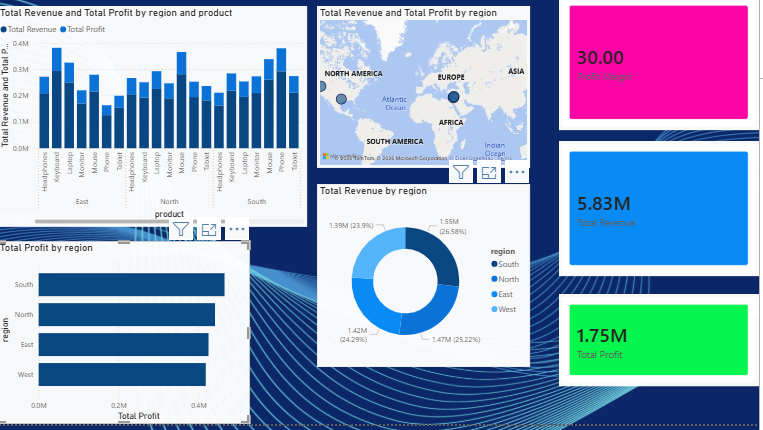

What the dashboard file says about the page in this screenshot:
{"tool":"powerbi","page":{"name":"Page 1","canvas":[1280,720],"ordinal":0},"visuals":[{"type":"columnChart","fields":{"Y":["cleaned_sales_data.Total Revenue","cleaned_sales_data.Total Profit"],"Category":["cleaned_sales_data.region","cleaned_sales_data.product"]},"box":[0,18.5,520.7,371.2],"z":0},{"type":"cardVisual","fields":{"Data":["cleaned_sales_data.Total Revenue"]},"box":[944,245.2,336,226.8],"z":1000},{"type":"cardVisual","fields":{"Data":["cleaned_sales_data.Total Profit"]},"box":[944,502.3,336,154.5],"z":2000},{"type":"cardVisual","fields":{"Data":["cleaned_sales_data.Profit Margin"]},"box":[944,0,336,226.8],"z":3000},{"type":"barChart","fields":{"Category":["cleaned_sales_data.region"],"Y":["cleaned_sales_data.Total Profit"]},"box":[0,413.2,425,307.4],"z":4000},{"type":"map","fields":{"Category":["cleaned_sales_data.region"],"Size":["cleaned_sales_data.Total Revenue"]},"box":[537.5,18.5,357.8,272.1],"z":5000},{"type":"donutChart","fields":{"Category":["cleaned_sales_data.region"],"Y":["cleaned_sales_data.Total Revenue"]},"box":[537.5,317.5,357.8,307.4],"z":6000}]}

Visuals, with their boxes in screenshot pixels (x1, y1, x2, y2), scaled from the page's 1280x720 canvas onto the 763x430 screenshot:
columnChart - cleaned_sales_data.Total Revenue x cleaned_sales_data.Total Profit: 0,11,310,233
cardVisual - cleaned_sales_data.Total Revenue: 563,146,762,282
cardVisual - cleaned_sales_data.Total Profit: 563,300,762,392
cardVisual - cleaned_sales_data.Profit Margin: 563,0,762,135
barChart - cleaned_sales_data.region x cleaned_sales_data.Total Profit: 0,247,253,429
map - cleaned_sales_data.region x cleaned_sales_data.Total Revenue: 320,11,534,174
donutChart - cleaned_sales_data.region x cleaned_sales_data.Total Revenue: 320,190,534,373
